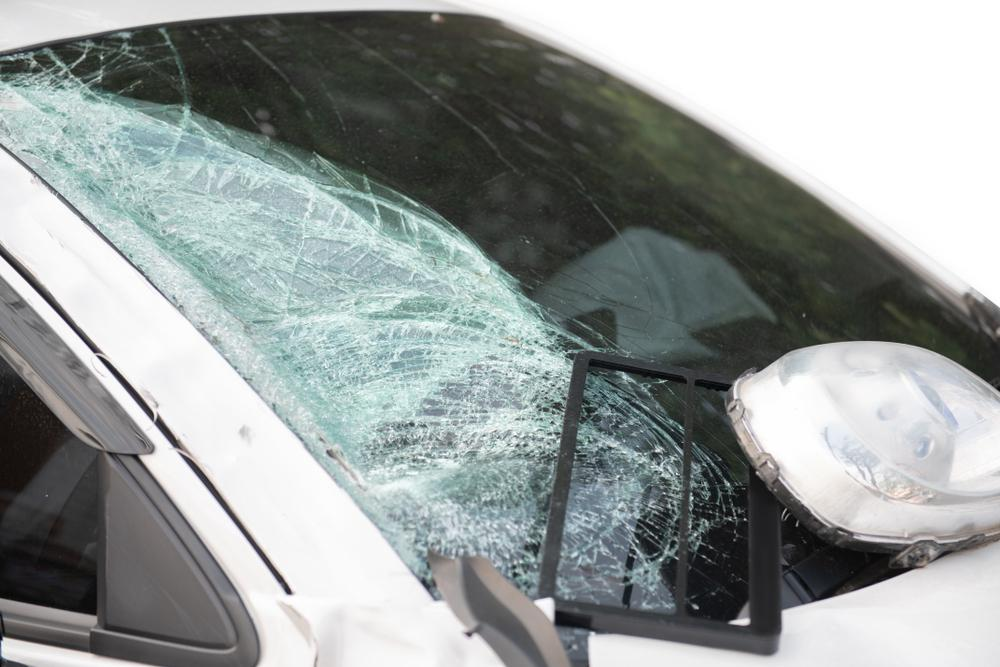glass shatter: (0, 12, 1000, 667)
